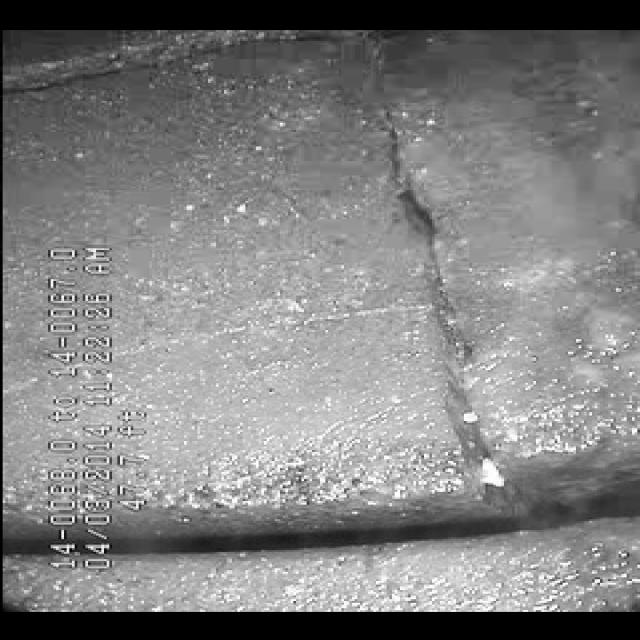Crack: (329, 118, 515, 484)
